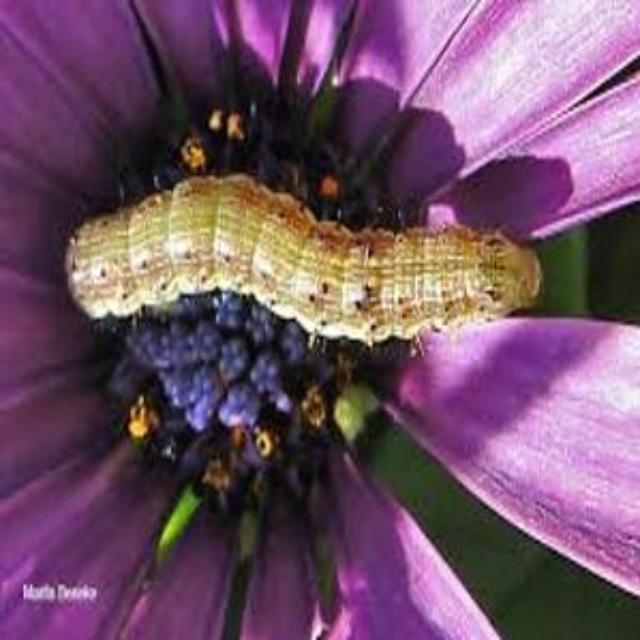Cotton bollworm: (56, 166, 564, 398)
